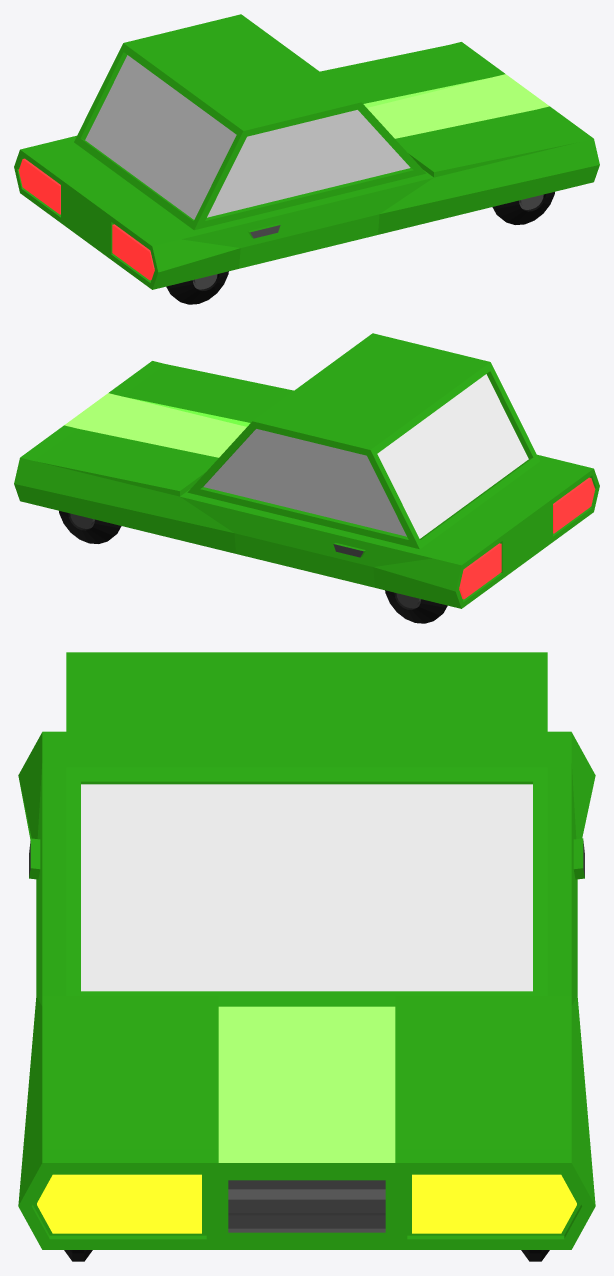
The model's file is car1.fbx.
The picture shows the model from 3 angles, top to bottom: view 1: azimuth 30°, elevation 25°; view 2: azimuth 150°, elevation 25°; view 3: azimuth 270°, elevation 25°; orthographic projection. The views are drawn at different scales.
Visible parts, largest first — view 1: Cube, Cylinder; view 2: Cube, Cylinder; view 3: Cube.
Boxes of the visible parts, <box> form: Cube: <box>14,14,599,289</box>; Cylinder: <box>166,192,554,304</box>; Cube: <box>14,333,599,608</box>; Cylinder: <box>59,511,447,623</box>; Cube: <box>18,652,595,1249</box>.
Size of the model in its own units: 424 by 150 by 240.
